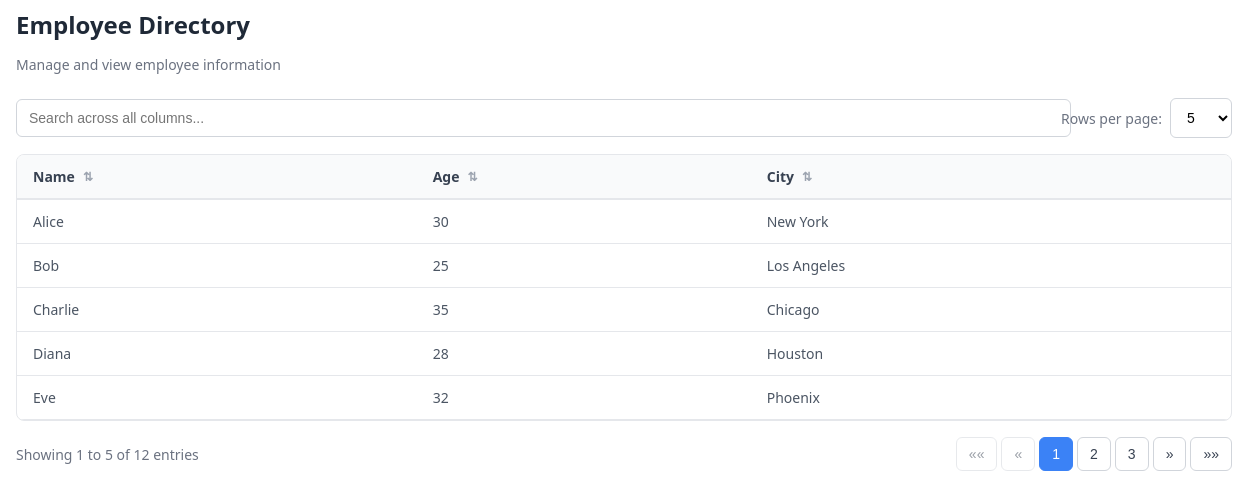
Test: DataTable Component › Sorting › resets to page 1 when sorting
// Go to page 2
Click the button with test id "page-btn-2": coordinates (1094, 454) [1077,437,1111,471]
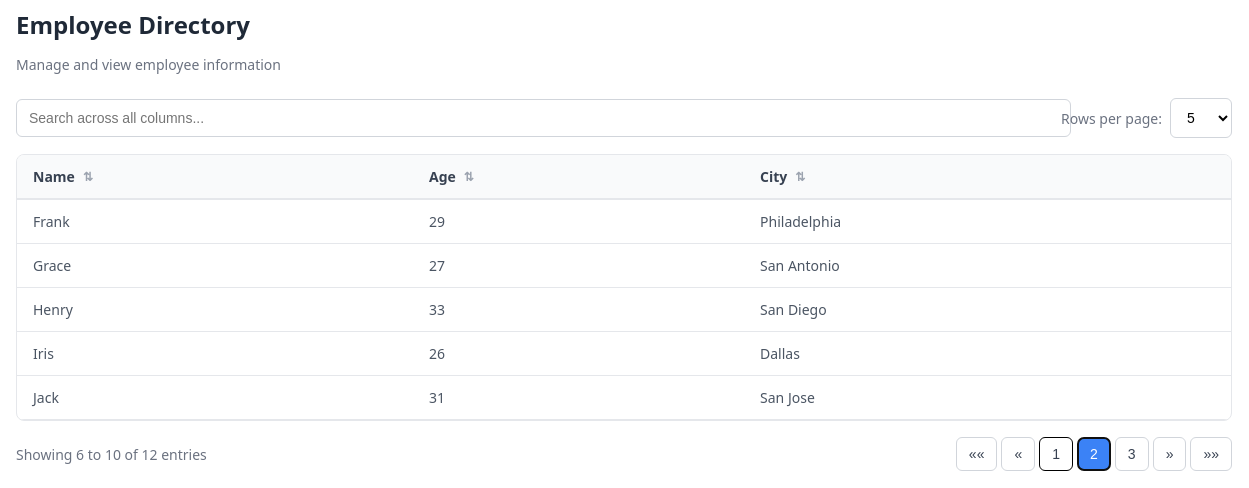
Now the text with test id "page-info" shows "Showing 6 to 10", box [16,445,207,464]
// Sort should reset to page 1
Click the column heading with test id "header-name": coordinates (215, 177) [17,155,413,199]
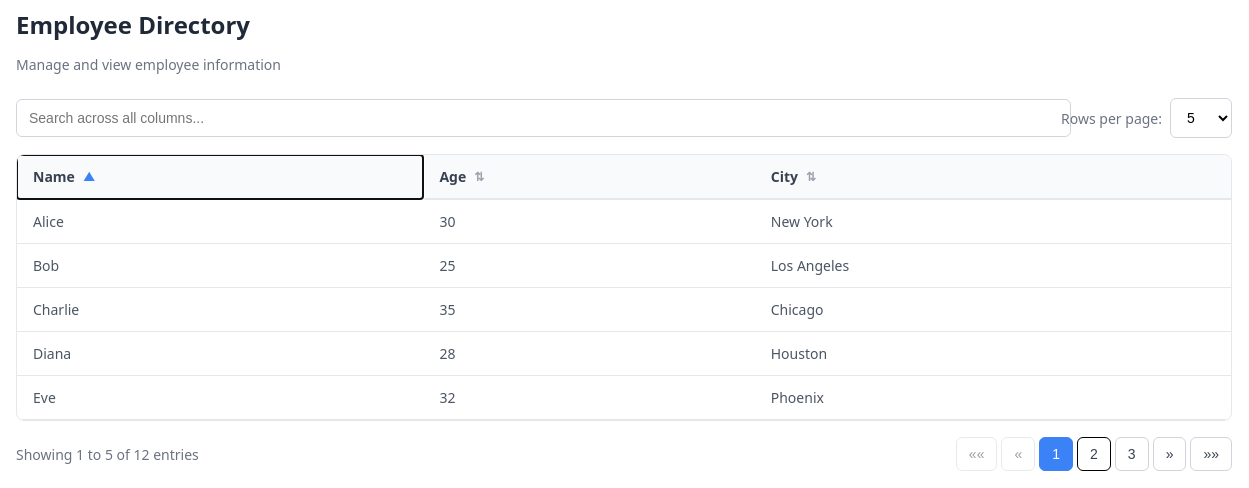
Now the text with test id "page-info" shows "Showing 1 to 5", box [16,445,199,464]
